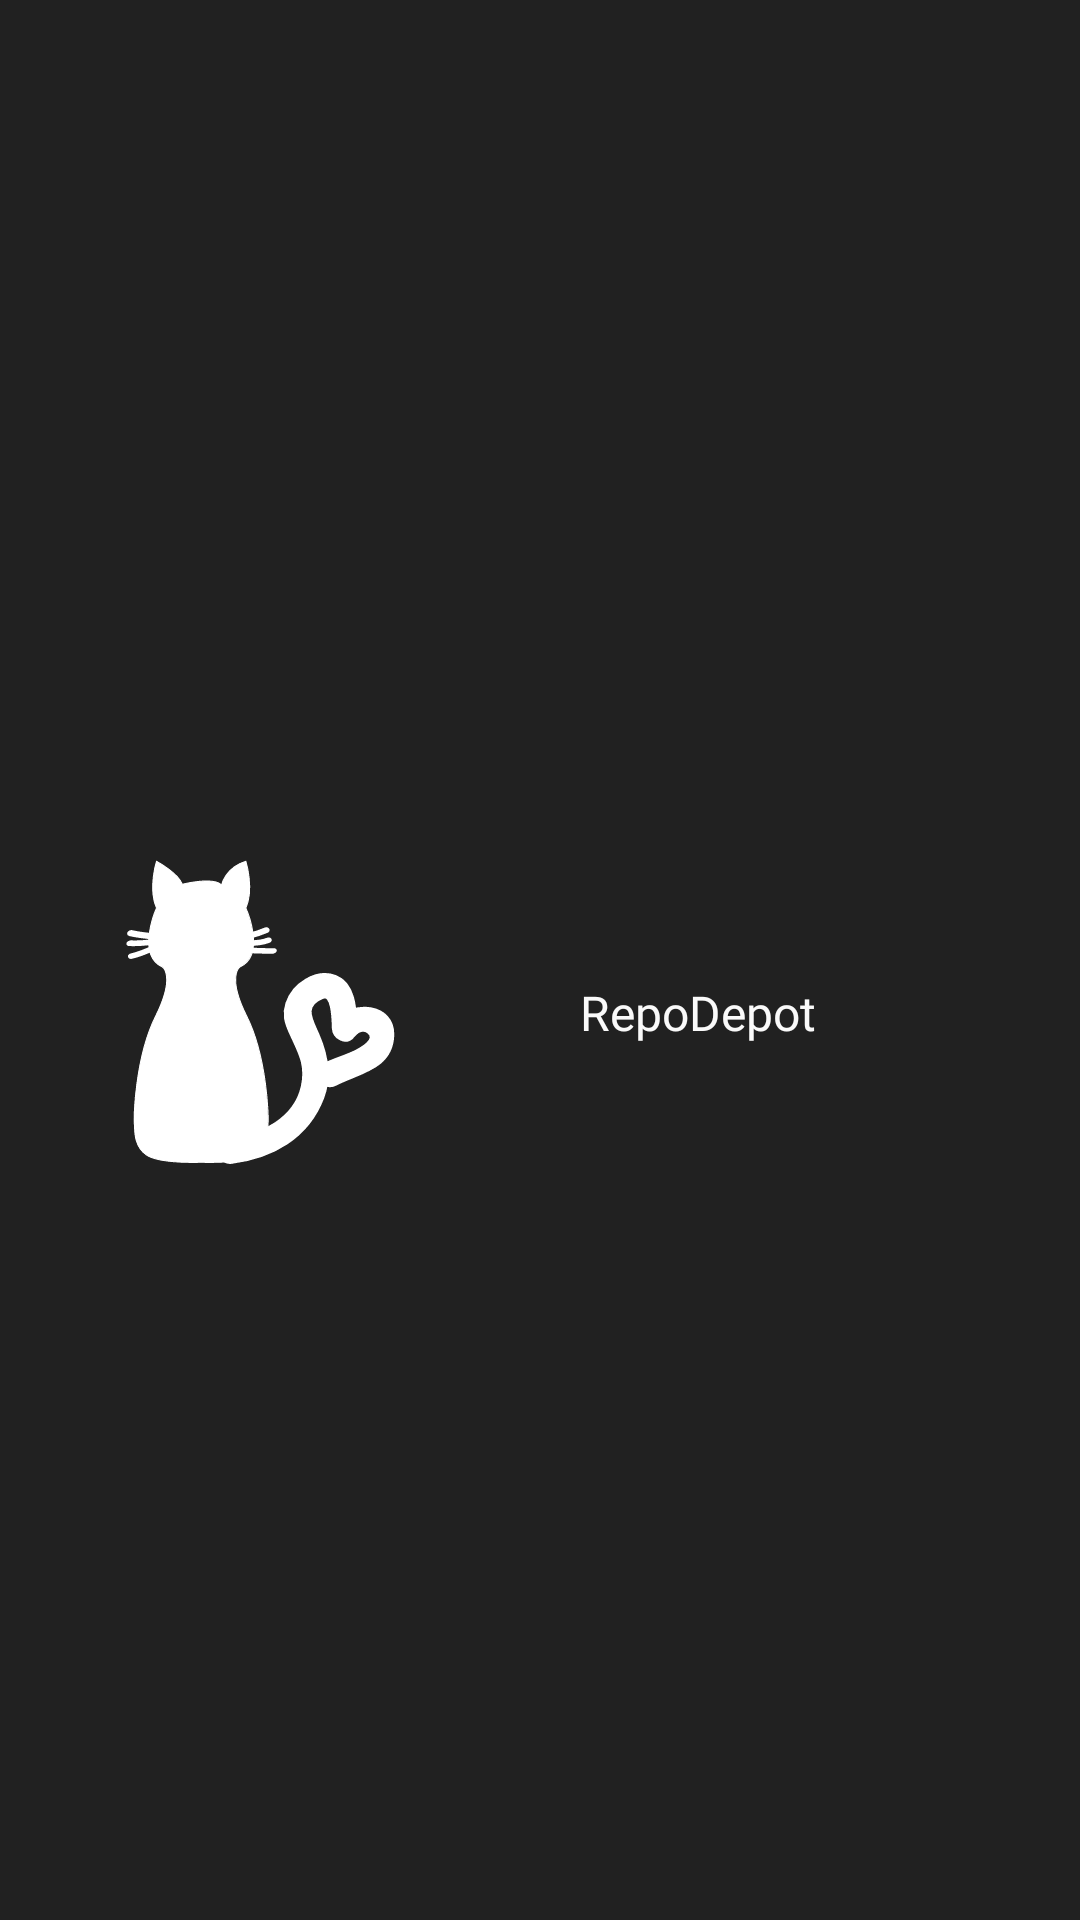

Where to tap for icons on this 1080 x 1920 app screen, as point (x, y):
cat simple: point (260, 1012)
